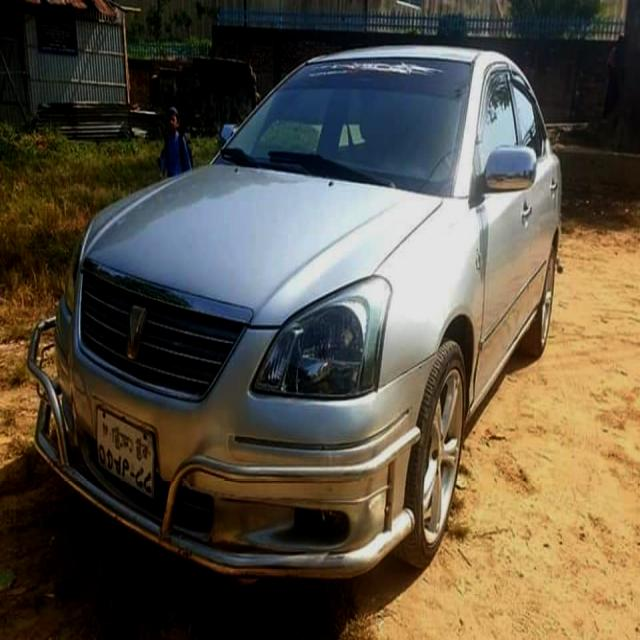silver: (29, 45, 565, 586)
